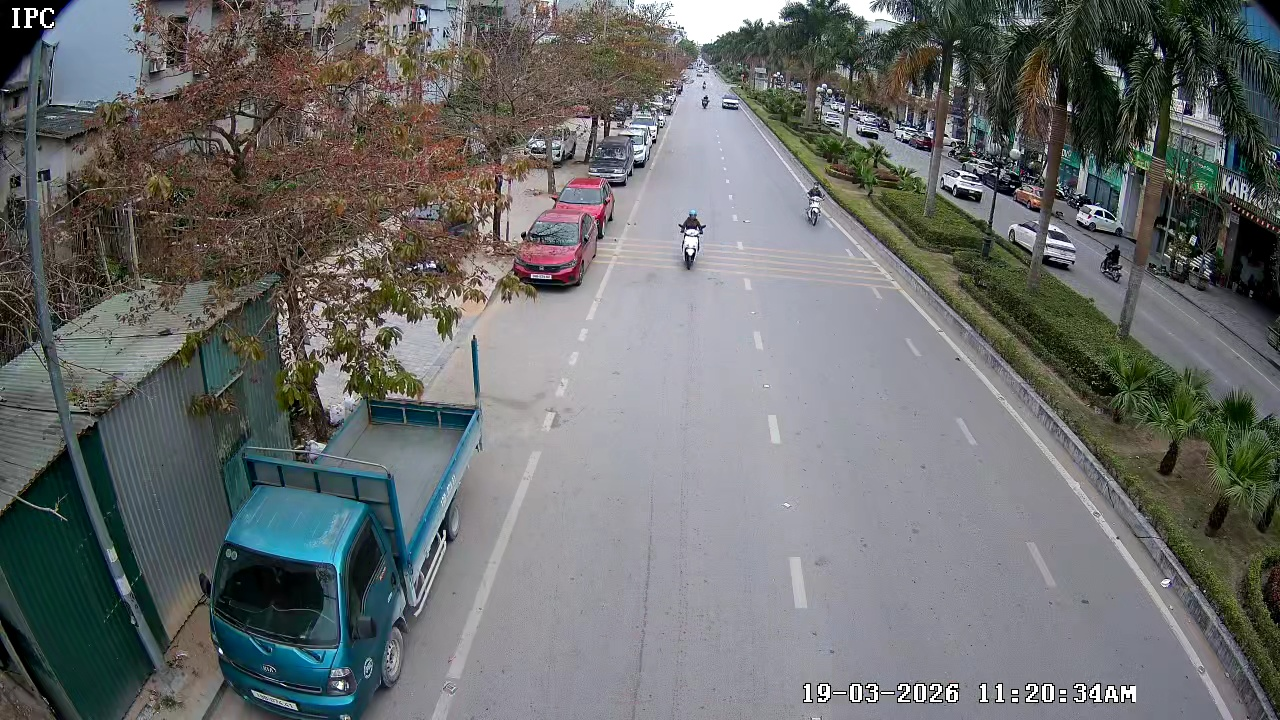car: (514, 209, 591, 290), (553, 175, 616, 239), (585, 131, 633, 190), (722, 92, 741, 113)
motorbike: (676, 209, 707, 271), (802, 178, 828, 227), (701, 94, 711, 112)
